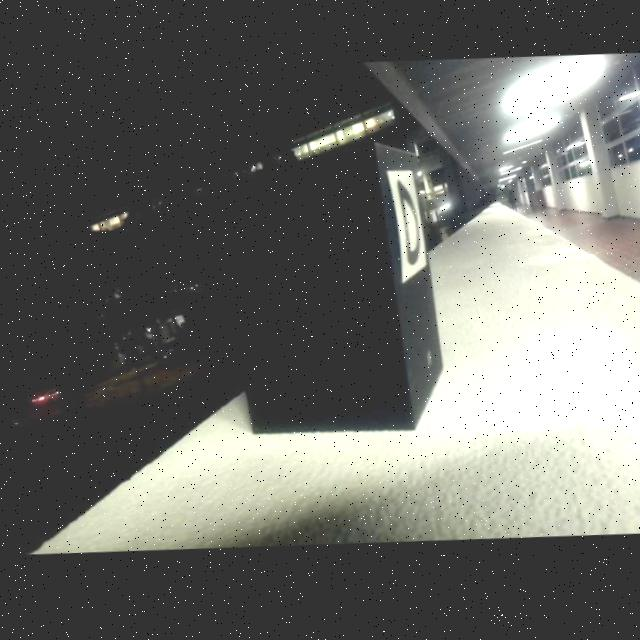D: (395, 184, 418, 270)
